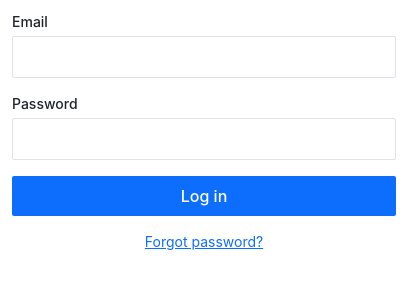
Scenario: LoginForm › API error handling › shows "Invalid email or password" on 401 response
In the field labelled "Email": (204, 57) [12,36,396,78], type "alice@example.com"
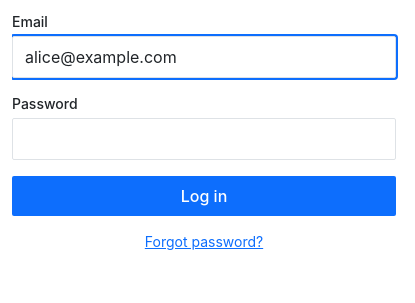
In the password field labelled "Password": (204, 139) [12,118,396,160], type "wrongpassword"
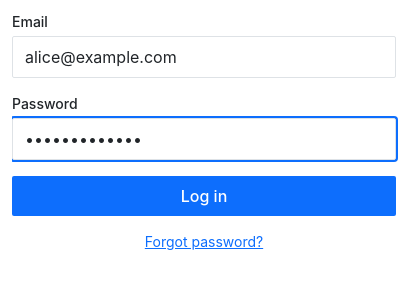
Click the button "Log in": (204, 196) [12,176,396,216]
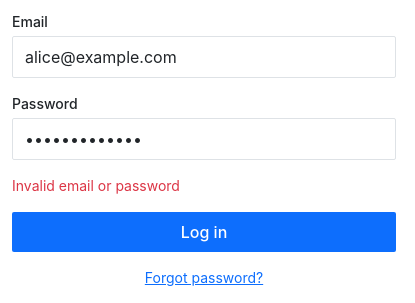
Expected: the text "Invalid email or password" is shown, [12,177,180,194]
